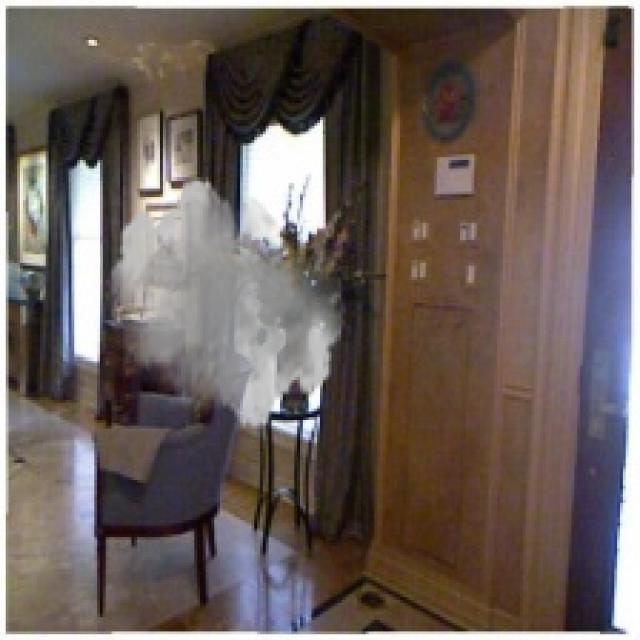Smoke: (106, 175, 346, 432)
